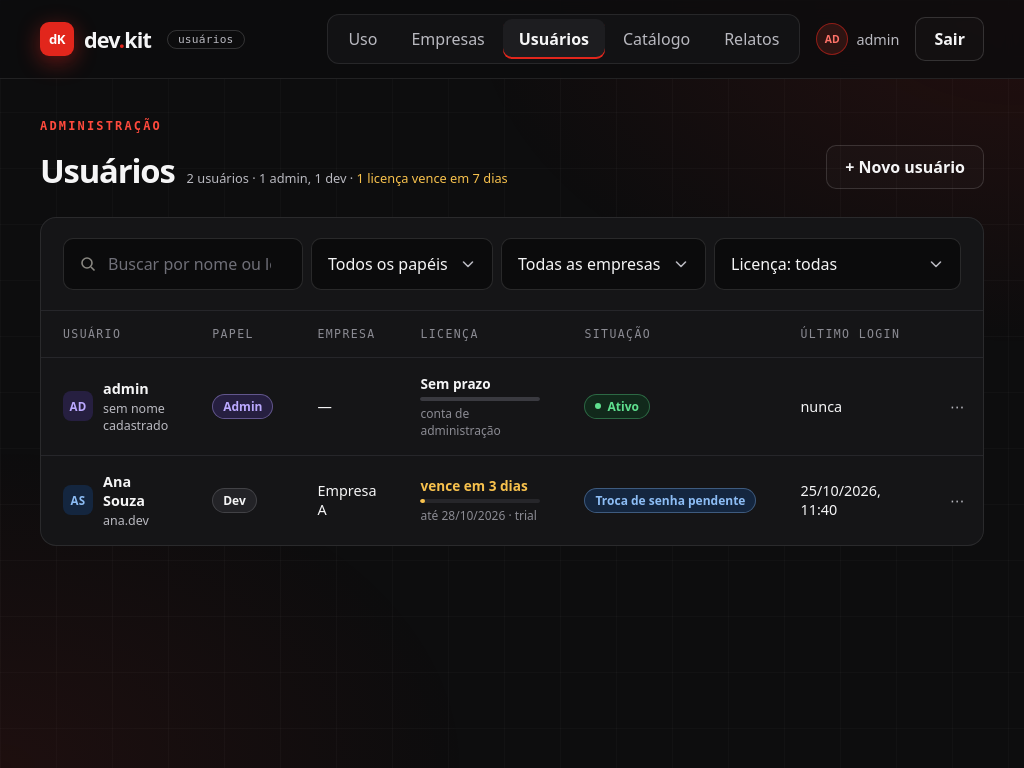
Usuários (US #405; visual da US #461) › a linha do próprio admin não tem o Bloquear
Click the button named "Ações de admin". click: [957, 406]
box: [944,393,970,419]
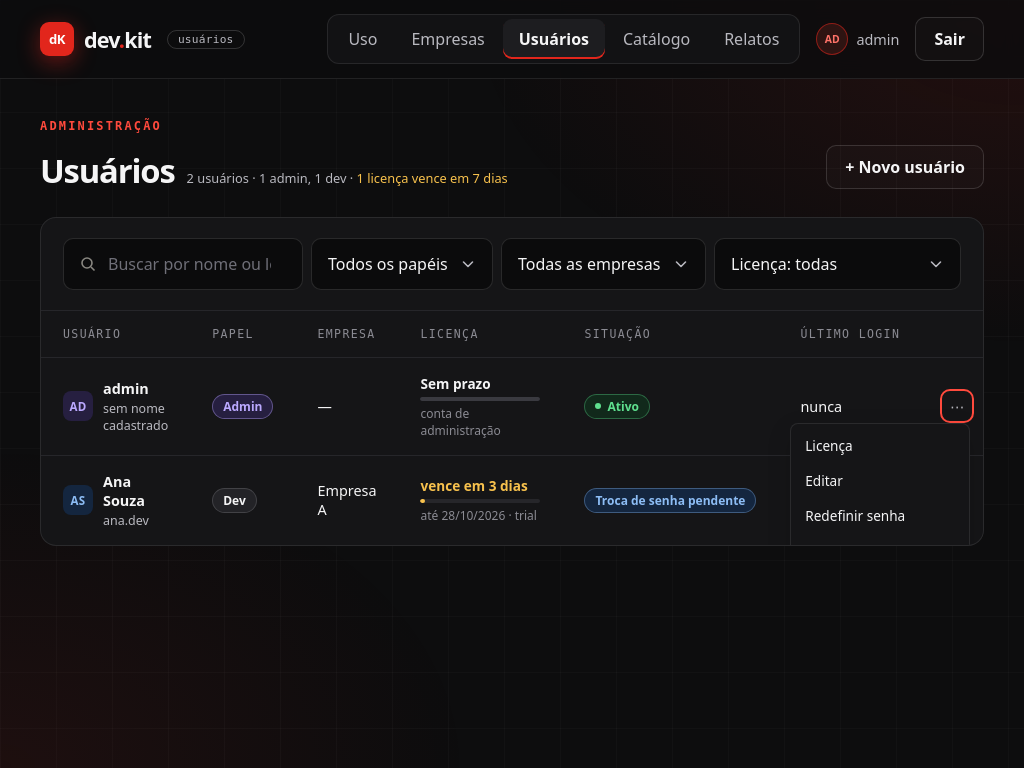
Press Escape
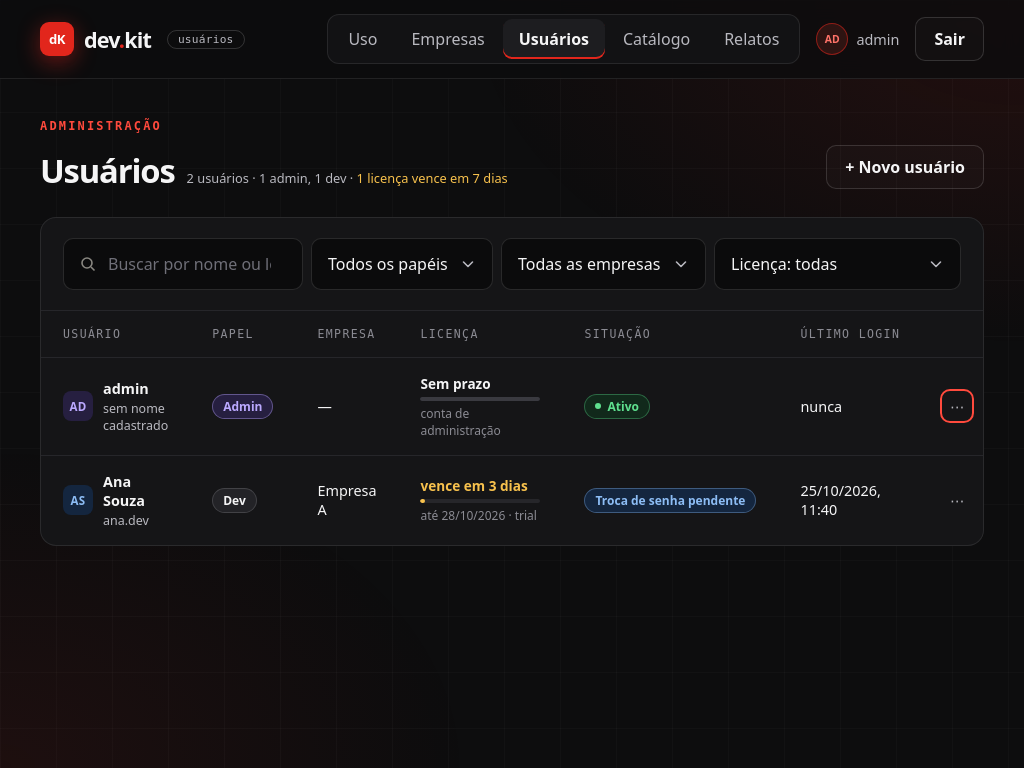
expect the menu is gone: met
